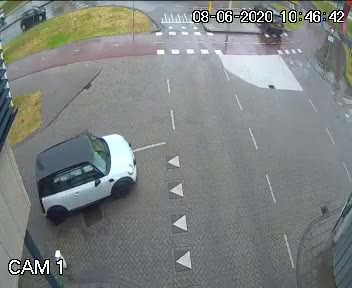car: (15, 120, 157, 218), (245, 3, 284, 43), (13, 7, 54, 31)
